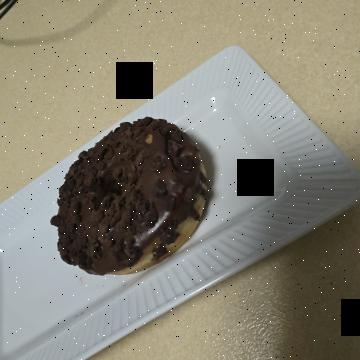doughnut: (100, 133, 282, 312)
